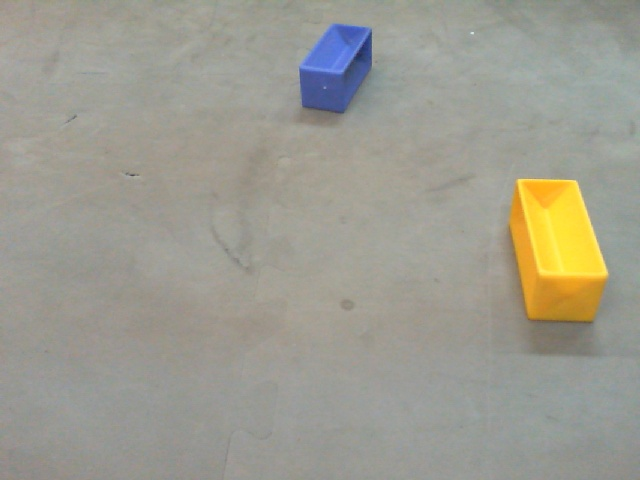BlueSample: (297, 20, 373, 112)
YellowSample: (508, 175, 610, 333)
